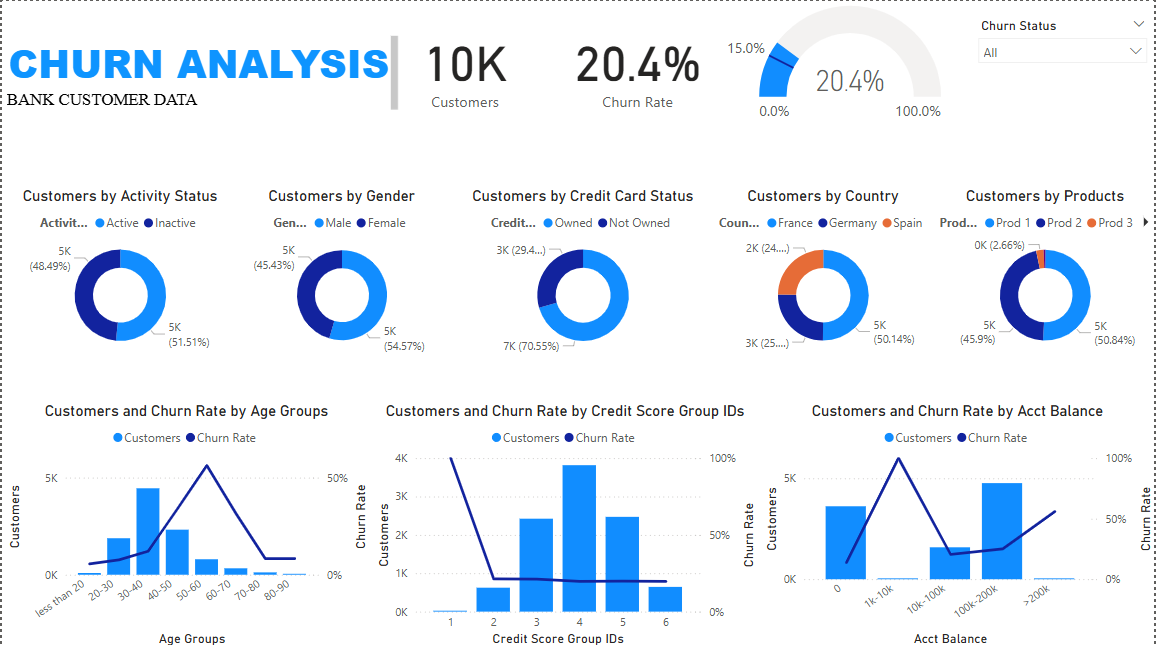

The dashboard page shown, as its layout file describes it:
{"tool":"powerbi","page":{"name":"Page 1","canvas":[1280,720],"ordinal":0},"visuals":[{"type":"card","fields":{"Values":["Customer Data.Customers"]},"box":[425.9,1.6,174.9,142.5],"z":0},{"type":"card","fields":{"Values":["Customer Data.Churn Rate"]},"box":[625,1.6,161.9,142.5],"z":1000},{"type":"donutChart","fields":{"Category":["Customer Data.Activity Status","Customer Data.Gender"],"Y":["Customer Data.Customers"]},"box":[0,207.3,262.3,191.1],"z":2000},{"type":"donutChart","fields":{"Category":["Customer Data.Gender","Customer Data.Activity Status"],"Y":["Customer Data.Customers"]},"box":[262.3,207.3,231.5,191.1],"z":3000},{"type":"donutChart","fields":{"Category":["Customer Data.Credit Card Status"],"Y":["Customer Data.Customers"]},"box":[513.3,207.3,263.9,191.1],"z":4000},{"type":"donutChart","fields":{"Category":["Customer Data.Country"],"Y":["Customer Data.Customers"]},"box":[790.2,207.3,244.5,191.1],"z":5000},{"type":"donutChart","fields":{"Category":["Customer Data.Products","Customer Data.Country"],"Y":["Customer Data.Customers"]},"box":[1036.3,207.3,244.5,191.1],"z":6000},{"type":"lineStackedColumnComboChart","fields":{"Category":["Age groups.Age Groups"],"Y":["Customer Data.Customers"],"Y2":["Customer Data.Churn Rate"]},"box":[0,444.4,409.9,276.1],"z":7000},{"type":"lineStackedColumnComboChart","fields":{"Category":["Credit Score Groups.Credit Score Group IDs"],"Y":["Customer Data.Customers"],"Y2":["Customer Data.Churn Rate"]},"box":[409.9,444.4,431.5,276.1],"z":8000},{"type":"lineStackedColumnComboChart","fields":{"Category":["Acct Balance Groups.Acct Balance"],"Y":["Customer Data.Customers"],"Y2":["Customer Data.Churn Rate"]},"box":[841.4,444.4,440.1,276.1],"z":9000},{"type":"gauge","fields":{"Y":["Customer Data.Churn Rate"],"MinValue":["Min(Customer Data.Min Churn Rate)"],"MaxValue":["Max(Customer Data.Max Churn Rate)"],"TargetValue":["Min(Customer Data.Target Churn Rate)"]},"box":[789.6,0,263.2,142.4],"z":10000},{"type":"slicer","fields":{"Values":["Customer Data.Churn Status"]},"box":[1074.4,12.9,207.1,120.8],"z":11000},{"type":"textbox","box":[0,34,445.3,100.4],"z":12000}]}

Visuals, with their boxes in screenshot pixels (x1, y1, x2, y2), scaled from the page's 1280x720 canvas onto the 1156x645 screenshot:
card - Customer Data.Customers: 385/1/543/129
card - Customer Data.Churn Rate: 564/1/711/129
donutChart - Customer Data.Activity Status x Customer Data.Gender: 0/186/237/357
donutChart - Customer Data.Gender x Customer Data.Activity Status: 237/186/446/357
donutChart - Customer Data.Credit Card Status x Customer Data.Customers: 464/186/702/357
donutChart - Customer Data.Country x Customer Data.Customers: 714/186/934/357
donutChart - Customer Data.Products x Customer Data.Country: 936/186/1155/357
lineStackedColumnComboChart - Age groups.Age Groups x Customer Data.Customers: 0/398/370/644
lineStackedColumnComboChart - Credit Score Groups.Credit Score Group IDs x Customer Data.Customers: 370/398/760/644
lineStackedColumnComboChart - Acct Balance Groups.Acct Balance x Customer Data.Customers: 760/398/1155/644
gauge - Customer Data.Churn Rate x Min(Customer Data.Min Churn Rate): 713/0/951/128
slicer - Customer Data.Churn Status: 970/12/1155/120
textbox: 0/30/402/120
